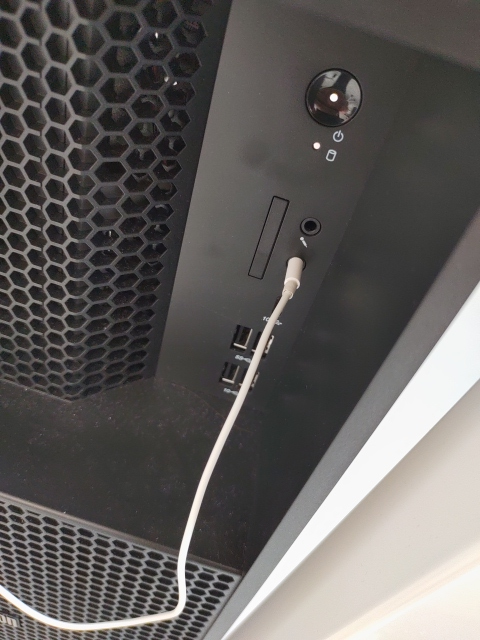3.5mm_audio: (300, 217, 321, 237)
USB: (230, 324, 253, 352), (218, 362, 239, 385)
